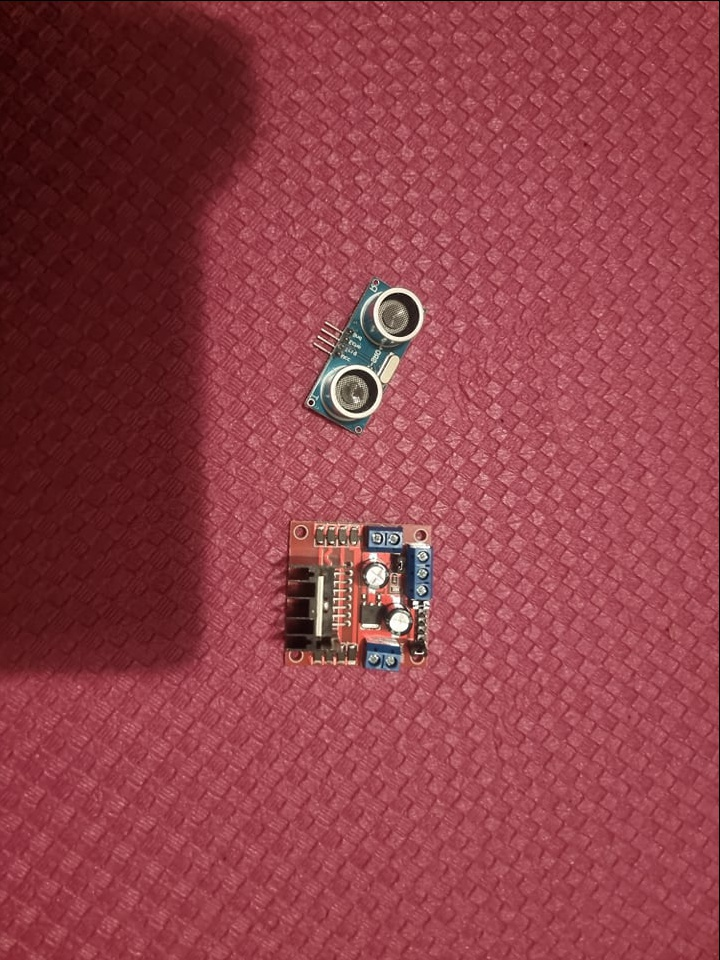MOTOR: (277, 521, 435, 673)
SENSOR: (308, 272, 433, 437)
